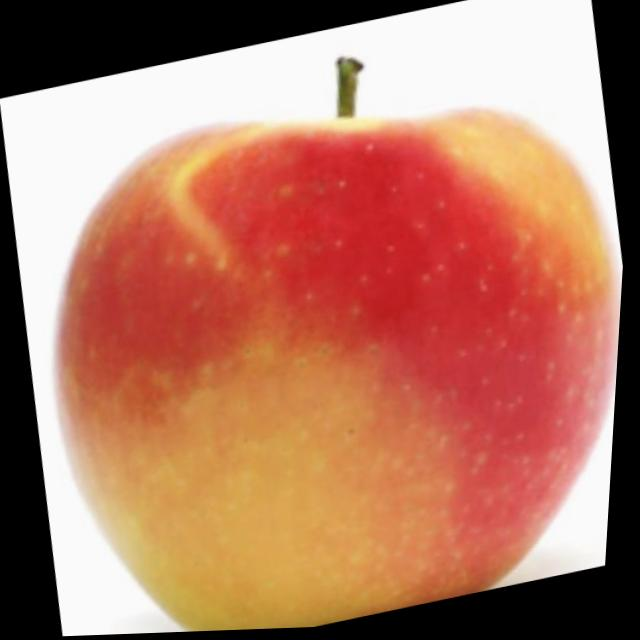Apple: (0, 6, 639, 639)
